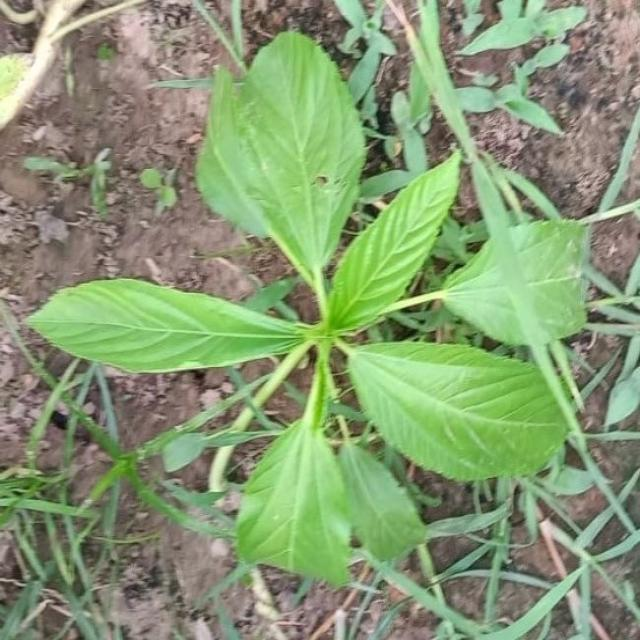plant: (31, 34, 460, 583), (342, 341, 566, 480), (439, 222, 585, 344)
